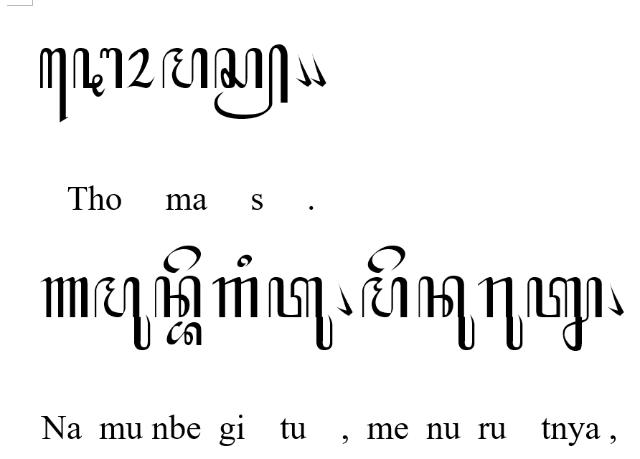-s: (214, 45, 288, 120)
N: (40, 277, 88, 319)
_b: (165, 321, 202, 347)
e: (366, 245, 406, 273), (163, 246, 201, 274)
e1: (40, 47, 70, 123)
g: (211, 277, 259, 319)
i: (237, 254, 253, 268)
kom: (294, 53, 312, 87), (310, 52, 326, 88), (336, 283, 352, 317), (607, 283, 623, 317)
m: (162, 48, 208, 90), (362, 276, 408, 318)
mu: (94, 276, 150, 352)
n: (154, 276, 202, 320)
nu: (417, 275, 475, 351)
o: (127, 47, 155, 89)
ru: (477, 276, 523, 352)
th: (72, 46, 122, 98)
tny: (526, 276, 604, 352)
tu: (268, 276, 334, 352)
